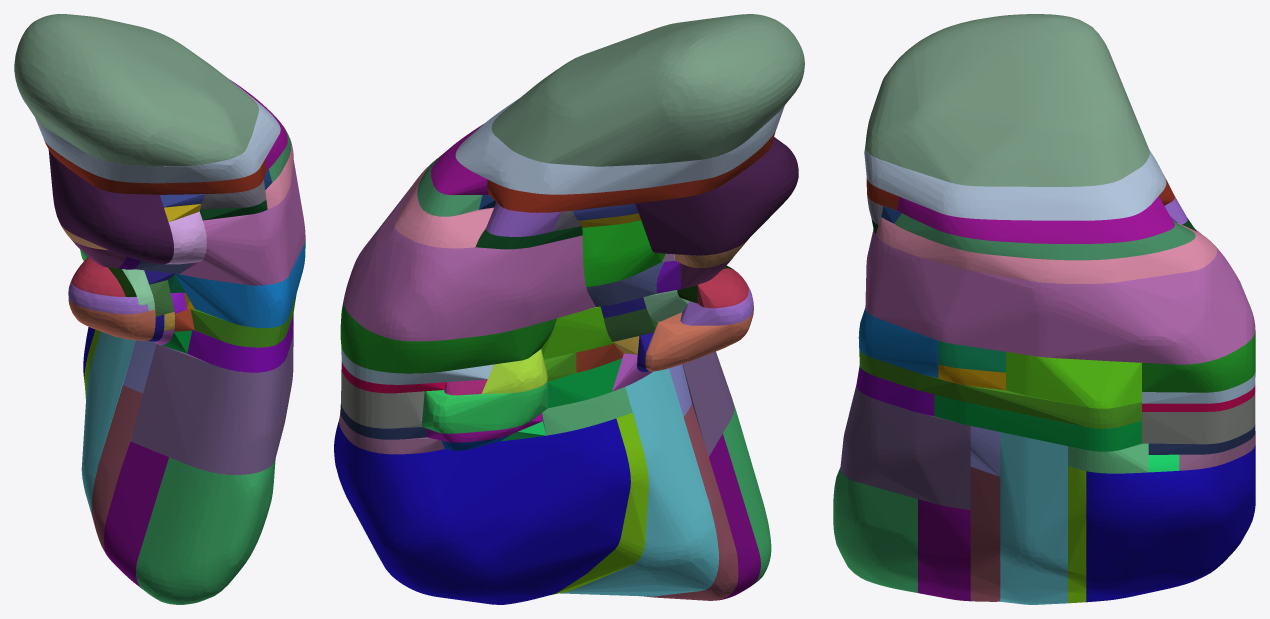
Rendered from distal_132_coacd1.obj.
3 views of the same model, side by side, from view 1: azimuth 30°, elevation 25°; view 2: azimuth 150°, elevation 25°; view 3: azimuth 270°, elevation 25° (orthographic). The views are drawn at different scales.
Parts seen in each view (by area): view 1: geometry_0, geometry_1, geometry_10, geometry_7, geometry_26, geometry_6, geometry_11, geometry_29, geometry_2, geometry_13, geometry_15, geometry_32 (+18 smaller); view 2: geometry_5, geometry_0, geometry_7, geometry_2, geometry_26, geometry_6, geometry_8, geometry_36, geometry_15, geometry_4, geometry_50, geometry_9 (+32 smaller); view 3: geometry_0, geometry_7, geometry_5, geometry_2, geometry_1, geometry_6, geometry_24, geometry_10, geometry_14, geometry_17, geometry_30, geometry_11 (+17 smaller).
Part boxes in pixels (box(x1,y1,x2,y2)): geometry_0: box(14, 14, 259, 166); geometry_1: box(130, 317, 293, 474); geometry_10: box(136, 457, 275, 604); geometry_7: box(179, 160, 305, 285); geometry_26: box(48, 149, 173, 264); geometry_6: box(35, 76, 280, 183); geometry_11: box(104, 441, 168, 588); geometry_29: box(175, 243, 305, 327); geometry_2: box(81, 331, 135, 517); geometry_13: box(91, 385, 142, 554); geometry_15: box(44, 140, 266, 194); geometry_32: box(187, 313, 293, 372); geometry_5: box(334, 418, 630, 604); geometry_0: box(491, 14, 804, 166); geometry_7: box(343, 186, 595, 341); geometry_2: box(560, 368, 718, 596); geometry_26: box(635, 137, 798, 255); geometry_6: box(455, 99, 784, 194); geometry_8: box(340, 301, 556, 373); geometry_36: box(422, 380, 547, 433); geometry_15: box(487, 131, 775, 212); geometry_4: box(552, 412, 648, 594); geometry_50: box(582, 220, 665, 287); geometry_9: box(645, 308, 753, 371); geometry_0: box(865, 14, 1149, 186); geometry_7: box(865, 228, 1255, 364); geometry_5: box(1086, 445, 1255, 602); geometry_2: box(1000, 432, 1067, 604); geometry_1: box(840, 386, 970, 509); geometry_6: box(864, 144, 1166, 220); geometry_24: box(876, 217, 1216, 283); geometry_10: box(833, 468, 917, 592); geometry_14: box(897, 196, 1174, 243); geometry_17: box(1006, 352, 1141, 408); geometry_30: box(859, 350, 1141, 428); geometry_11: box(918, 499, 970, 601).
Bounding box in the file's own units: 0.0186 × 0.0315 × 0.0222.
